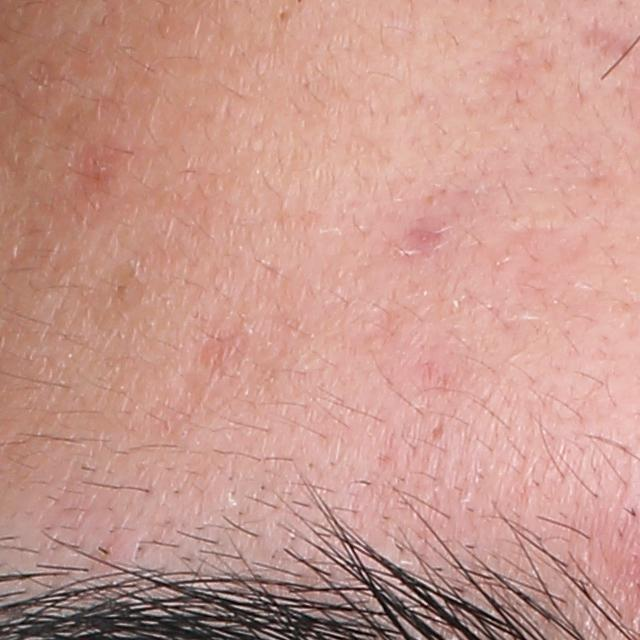comedo: (272, 5, 294, 27)
